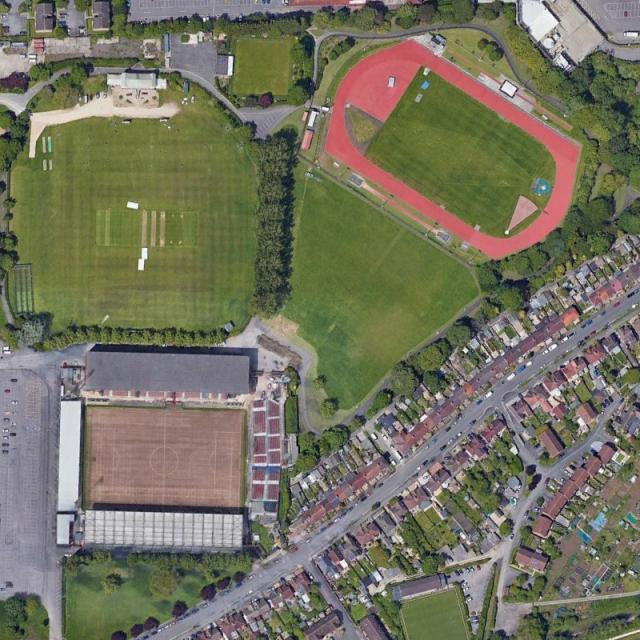vehicle: (623, 32, 639, 38), (484, 390, 493, 399), (549, 343, 558, 351), (370, 433, 378, 442), (517, 365, 525, 373), (507, 373, 515, 381), (476, 398, 484, 406), (234, 582, 242, 590), (562, 469, 570, 477), (561, 336, 570, 343), (526, 359, 535, 366), (613, 302, 621, 309), (446, 438, 454, 445), (390, 458, 397, 466), (306, 537, 314, 544), (247, 574, 255, 581), (191, 608, 200, 614), (544, 477, 550, 486), (627, 292, 634, 299), (599, 310, 606, 317), (382, 434, 389, 441), (542, 349, 550, 355), (439, 445, 447, 451), (360, 496, 368, 502), (326, 522, 334, 528), (202, 603, 210, 609), (523, 510, 529, 518), (618, 398, 624, 406), (631, 303, 638, 309), (586, 320, 593, 326), (455, 432, 462, 438), (377, 482, 384, 488), (367, 491, 374, 497), (347, 506, 354, 512), (340, 511, 346, 518), (319, 526, 326, 532), (308, 573, 314, 580), (464, 594, 471, 600), (463, 586, 470, 592), (459, 579, 466, 585), (465, 566, 471, 573), (511, 497, 518, 503), (465, 598, 473, 603), (533, 507, 541, 512), (590, 330, 596, 336), (580, 324, 586, 330), (333, 517, 339, 523), (454, 570, 460, 576), (165, 624, 172, 629), (157, 627, 164, 632), (470, 565, 475, 572), (458, 567, 463, 574), (171, 621, 179, 625), (634, 288, 640, 293), (452, 421, 458, 426), (446, 426, 451, 432), (422, 460, 427, 466), (510, 534, 514, 541), (477, 564, 481, 571), (390, 443, 394, 449), (416, 466, 422, 470), (462, 582, 466, 588)
